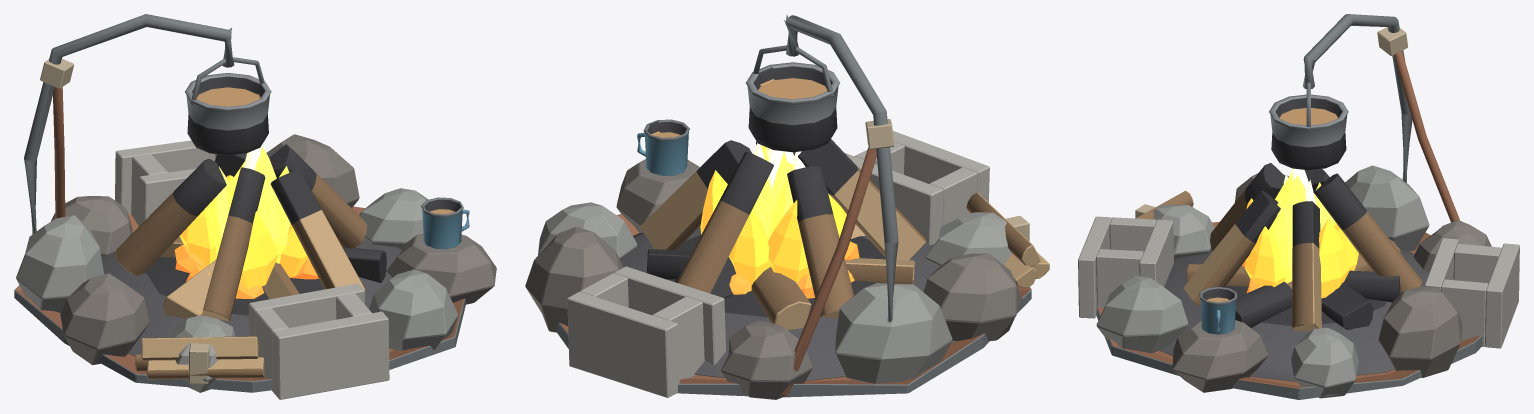
The model's file is Apoc_Prop_Campfire.fbx.
3 renders of one model, left to right at view 1: azimuth 30°, elevation 25°; view 2: azimuth 150°, elevation 25°; view 3: azimuth 270°, elevation 25°, orthographic. The views are drawn at different scales.
Parts seen in each view (by area): view 1: Campfire_Base, Campfire_Fire; view 2: Campfire_Base, Campfire_Fire; view 3: Campfire_Base, Campfire_Fire.
Part boxes in pixels (left/top/right/bottom): Campfire_Base: left=14, top=14, right=496, bottom=399; Campfire_Fire: left=174, top=143, right=318, bottom=298; Campfire_Base: left=525, top=14, right=1049, bottom=399; Campfire_Fire: left=700, top=143, right=859, bottom=298; Campfire_Base: left=1078, top=14, right=1519, bottom=399; Campfire_Fire: left=1242, top=168, right=1358, bottom=298.
Bounding box in the file's own units: 0.8766 × 0.5981 × 0.8957.
